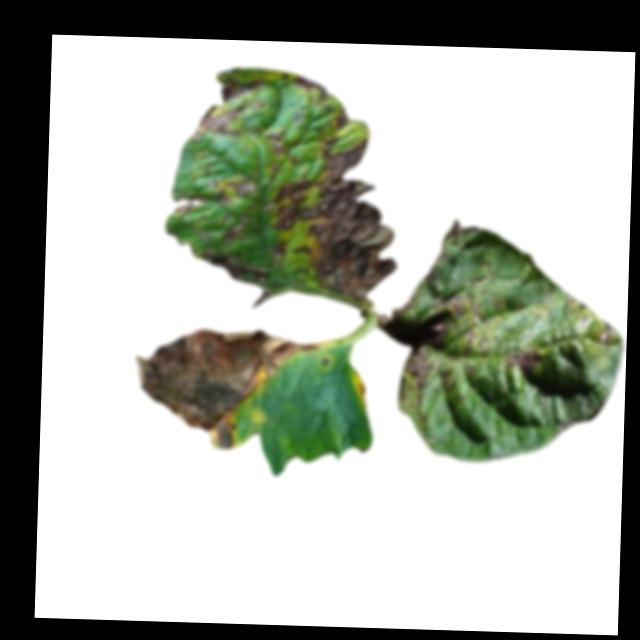Early_blight: (264, 134, 401, 304), (132, 323, 307, 452), (381, 277, 489, 414), (197, 213, 271, 293), (193, 103, 245, 138), (210, 178, 263, 208), (217, 78, 263, 104), (293, 76, 330, 104), (508, 348, 539, 375), (172, 193, 206, 217), (443, 217, 476, 238), (351, 372, 369, 401), (332, 108, 352, 133)
